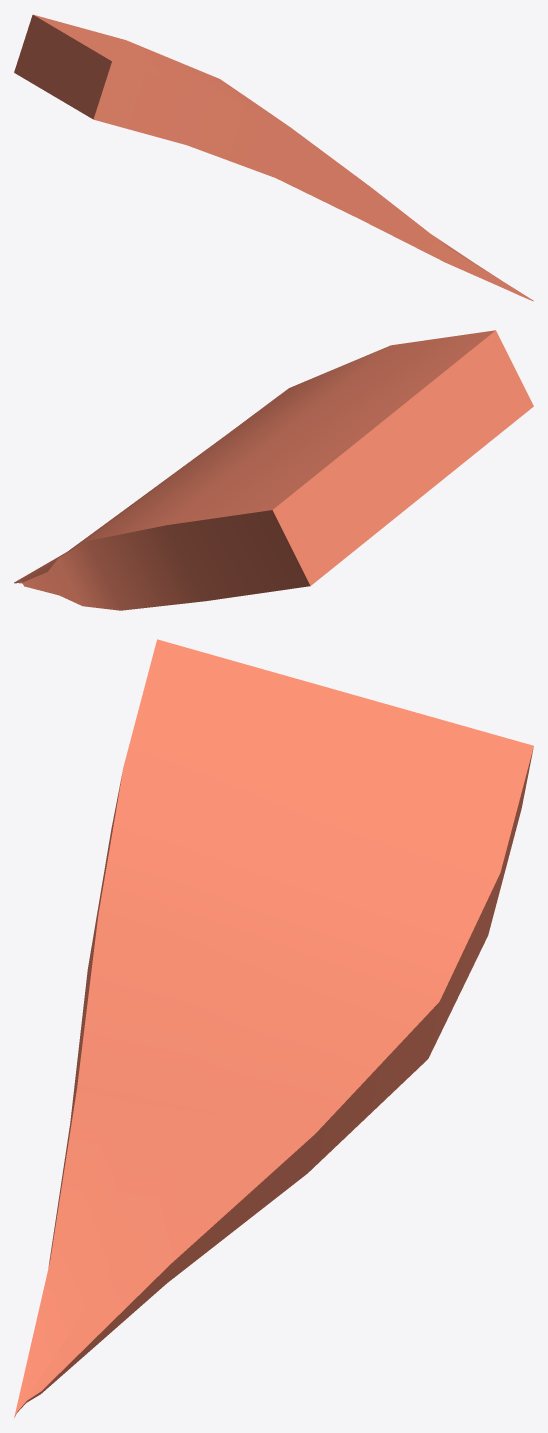
The model's file is wing2.obj.
The picture shows the model from 3 angles, top to bottom: view 1: azimuth 30°, elevation 25°; view 2: azimuth 150°, elevation 25°; view 3: azimuth 270°, elevation 25°; orthographic projection. The views are drawn at different scales.
Visible parts, largest first — view 1: Bird_RW_roll_env_07:fish:MaterialSG1_0; view 2: Bird_RW_roll_env_07:fish:MaterialSG1_0; view 3: Bird_RW_roll_env_07:fish:MaterialSG1_0.
Part boxes in pixels (bbox=[...]): Bird_RW_roll_env_07:fish:MaterialSG1_0: bbox=[14, 14, 533, 301]; Bird_RW_roll_env_07:fish:MaterialSG1_0: bbox=[14, 330, 533, 610]; Bird_RW_roll_env_07:fish:MaterialSG1_0: bbox=[14, 639, 533, 1417].
Bounding box in the file's own units: 0.4115 × 0.2946 × 0.2876.
1 material, 1 textured.
